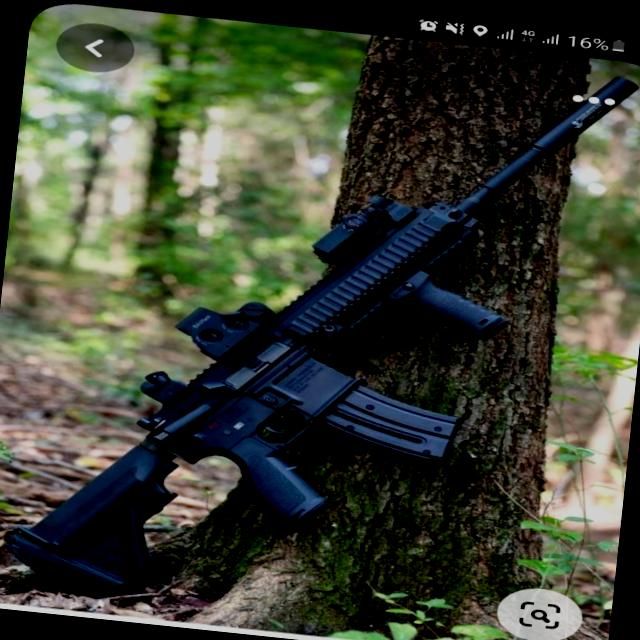m16: (198, 48, 601, 580)
